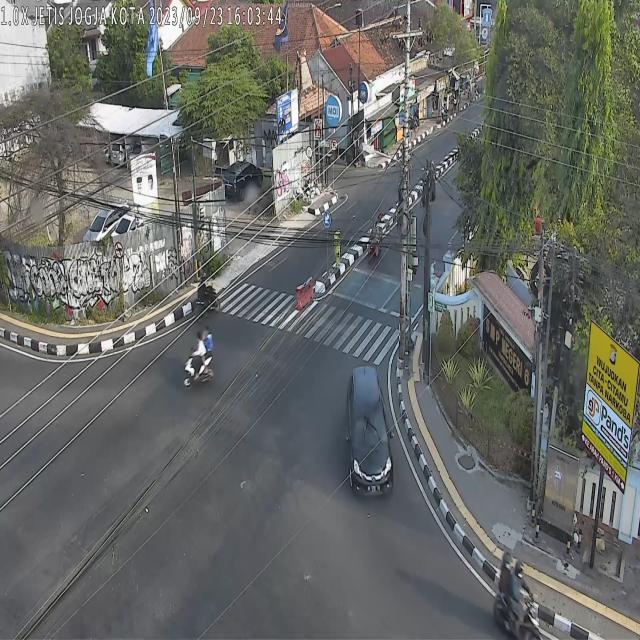car: (346, 364, 394, 499)
motorcycle: (489, 542, 542, 640), (182, 324, 216, 390), (368, 218, 382, 263)
